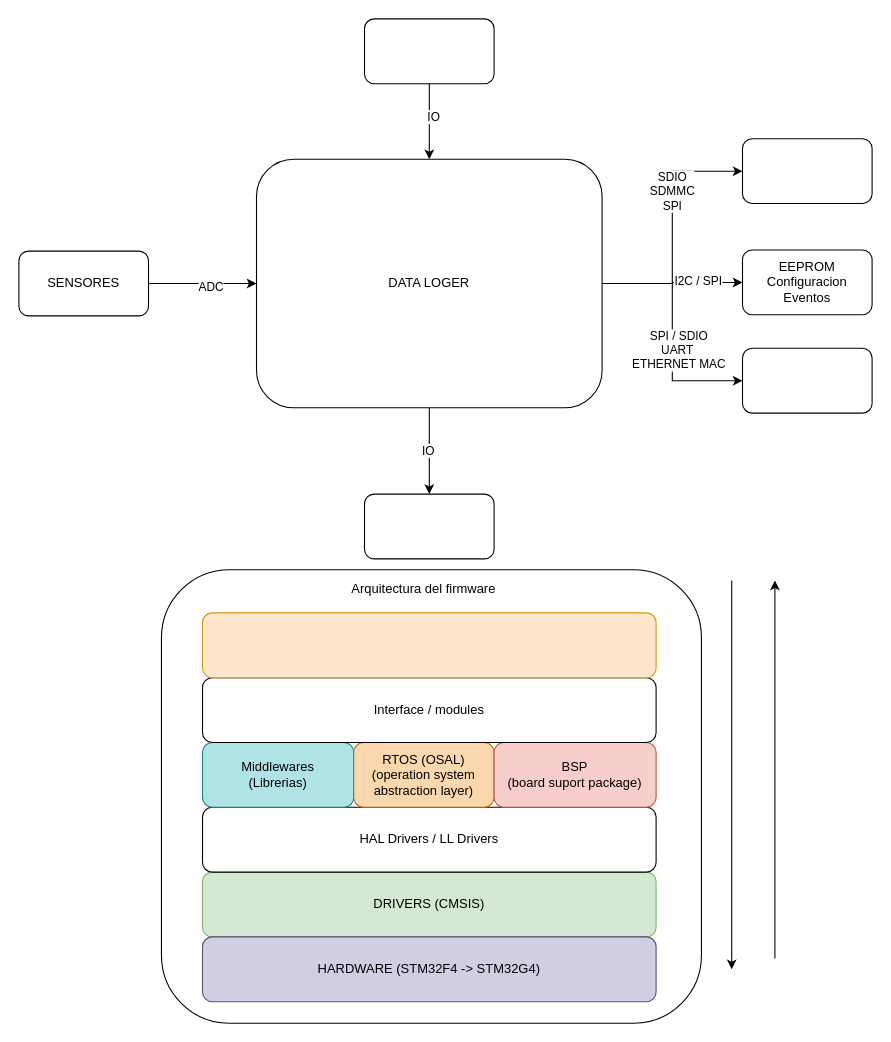
Some shapes in this 891 by 1042 pixel diagram are drawn without their labels. Here are the shapes that lost their labels. From the top down, the box of each, then its label:
(363, 18, 494, 84): BOTONES
(741, 138, 872, 204): SD
(741, 347, 872, 413): WiFi /ETH GSM SigFox LORA
(363, 493, 494, 559): PANTALLA
(201, 612, 656, 678): Application Layer
